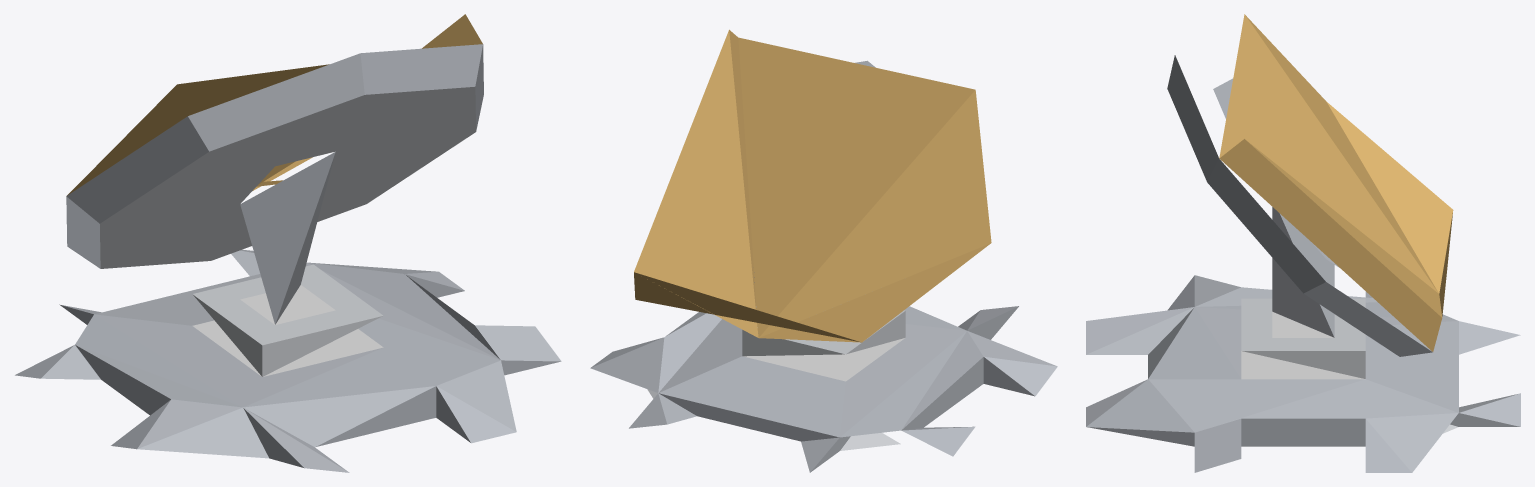
Rendered from satelliteDish_detailed.lod.glb.
3 renders of one model, left to right at view 1: azimuth 30°, elevation 25°; view 2: azimuth 150°, elevation 25°; view 3: azimuth 270°, elevation 25°, orthographic. The views are drawn at different scales.
Parts seen in each view (by area): view 1: satelliteDish_detailed; view 2: satelliteDish_detailed; view 3: satelliteDish_detailed.
Part boxes in pixels (left/top/right/bottom): satelliteDish_detailed: left=15, top=14, right=561, bottom=472; satelliteDish_detailed: left=590, top=29, right=1057, bottom=472; satelliteDish_detailed: left=1086, top=14, right=1520, bottom=472.
Bounding box in the file's own units: 0.7 × 0.5799 × 0.7.
